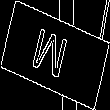M_S: (34, 24, 76, 86)
